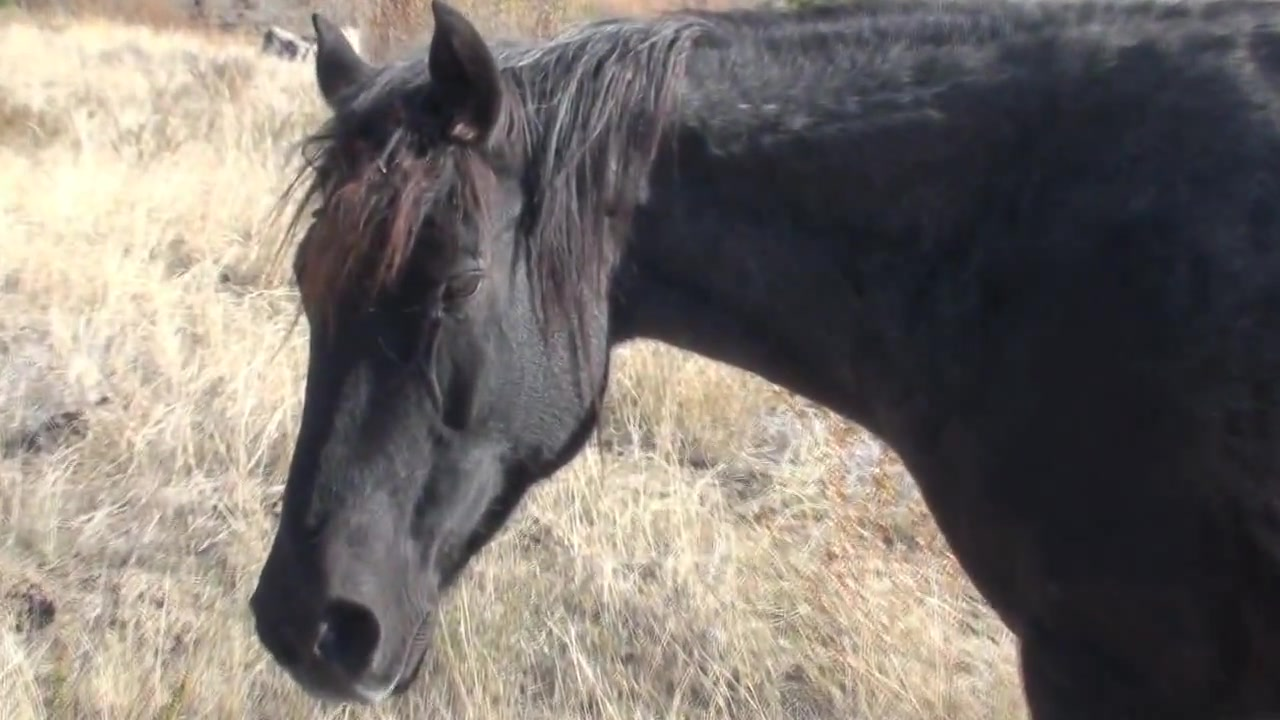horse: (239, 6, 1280, 720)
